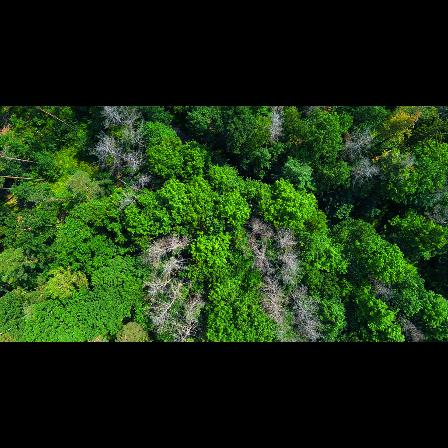Dead: (140, 234, 191, 262), (178, 295, 207, 340), (157, 280, 184, 327), (102, 106, 143, 136), (330, 133, 375, 160), (94, 140, 139, 167), (394, 312, 426, 342), (145, 273, 179, 297), (290, 285, 313, 319), (345, 159, 382, 180), (263, 107, 285, 142), (263, 294, 289, 322), (418, 204, 447, 228), (273, 223, 296, 253), (248, 235, 270, 266), (371, 275, 394, 301), (297, 317, 322, 340), (115, 189, 140, 209), (259, 273, 282, 293), (278, 268, 298, 286), (278, 255, 301, 270), (135, 171, 157, 186), (249, 216, 266, 234), (398, 156, 415, 171)
